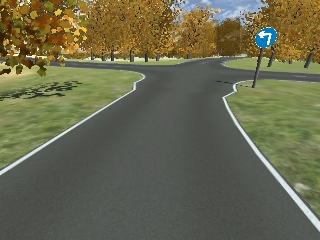left: (254, 25, 278, 47)
